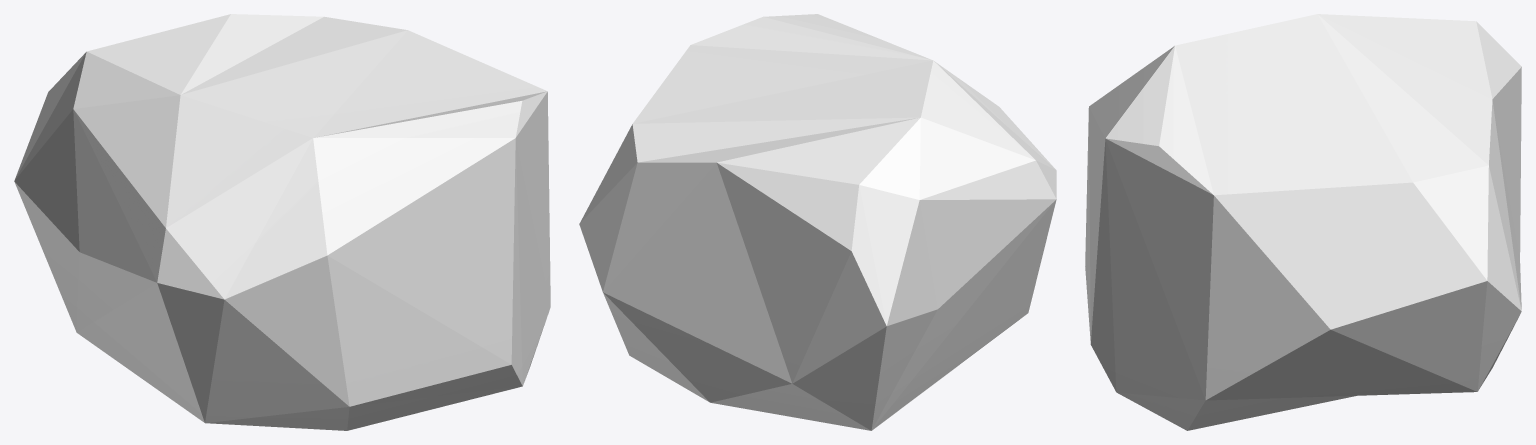
File: Rock 02.FBX
3 views of the same model, side by side, from view 1: azimuth 30°, elevation 25°; view 2: azimuth 150°, elevation 25°; view 3: azimuth 270°, elevation 25° (orthographic). The views are drawn at different scales.
Visible parts, largest first — view 1: Box001; view 2: Box001; view 3: Box001.
Part boxes in pixels (box(x1,y1,x2,y2)): Box001: box(14, 14, 550, 430); Box001: box(579, 14, 1056, 430); Box001: box(1085, 14, 1521, 430).
Bounding box in the file's own units: 26.09 × 17.39 × 23.72.
